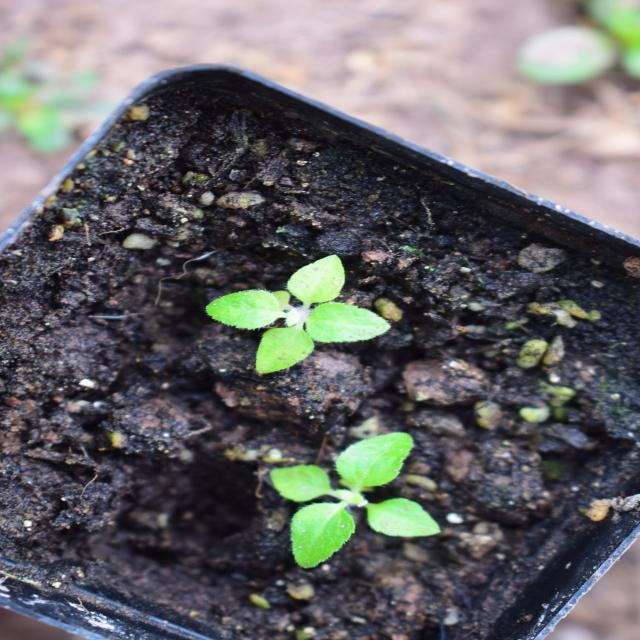billygoat_weed: (433, 185, 564, 397), (269, 246, 377, 442)
